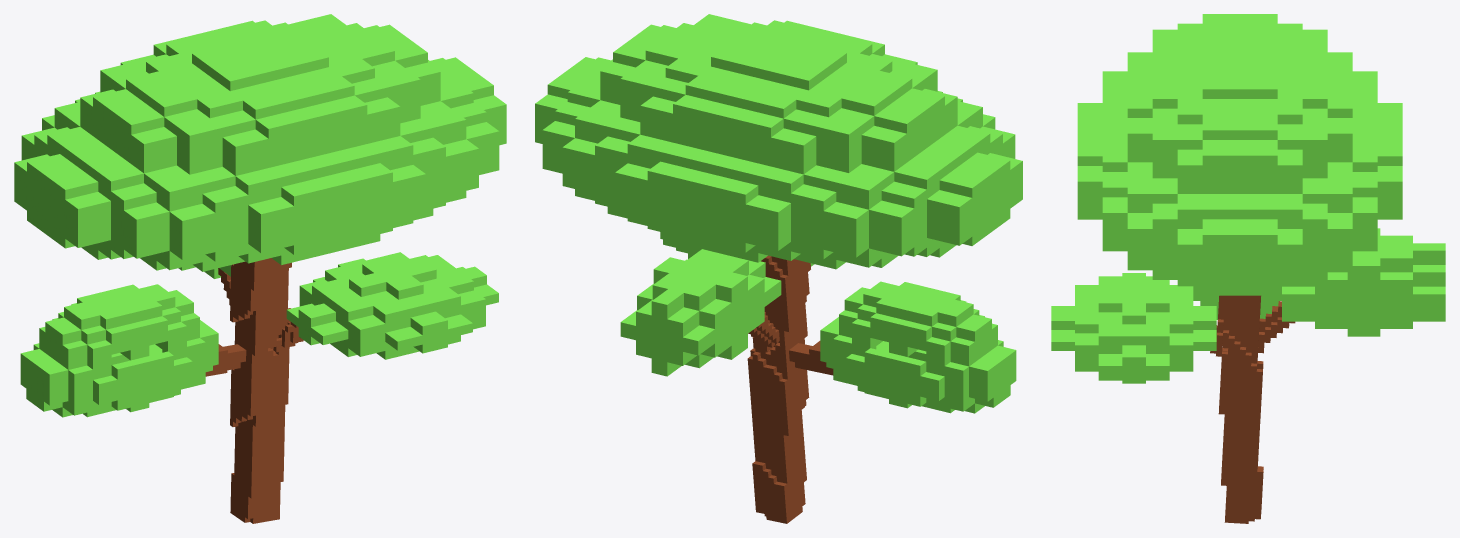
File: tree2.fbx
3 views of the same model, side by side, from view 1: azimuth 30°, elevation 25°; view 2: azimuth 150°, elevation 25°; view 3: azimuth 270°, elevation 25° (orthographic). The views are drawn at different scales.
Visible parts, largest first — view 1: Leaves1, Leaves4, Leaves2, Stem; view 2: Leaves1, Leaves4, Stem, Leaves3; view 3: Leaves1, Leaves2, Leaves3, Stem, Leaves4.
Part boxes in pixels (x1,y1,x2,y2): Leaves1: (14, 14, 506, 271); Leaves4: (20, 284, 218, 417); Leaves2: (286, 252, 498, 359); Stem: (205, 258, 303, 523); Leaves1: (535, 14, 1022, 269); Leaves4: (820, 281, 1016, 413); Stem: (747, 255, 833, 523); Leaves3: (620, 249, 781, 376); Leaves1: (1077, 14, 1402, 295); Leaves2: (1051, 273, 1216, 383); Leaves3: (1282, 228, 1445, 336); Stem: (1210, 295, 1295, 523); Leaves4: (1193, 286, 1281, 319).
Bounding box in the file's own units: 2809 × 2822 × 2231.
